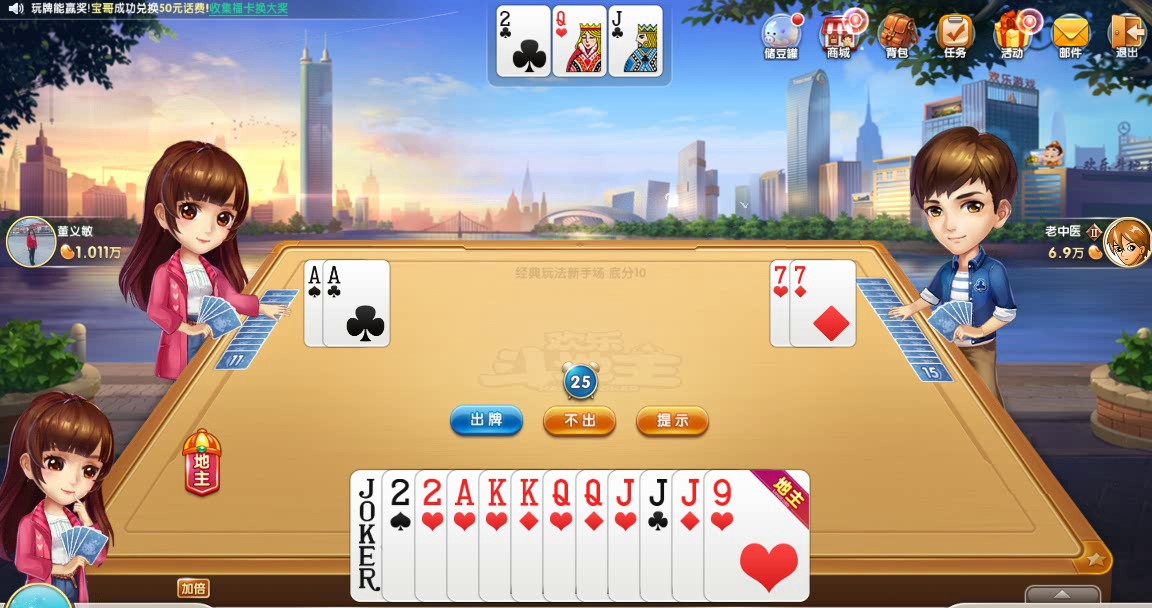11~1: (670, 470, 776, 601)
11~2: (638, 470, 744, 601), (607, 4, 662, 77)
11~3: (606, 470, 712, 601)
12~1: (575, 470, 681, 601)
12~3: (542, 470, 648, 601), (551, 4, 606, 77)
13~1: (510, 470, 616, 601)
13~3: (477, 470, 583, 601)
14~2: (321, 259, 390, 347)
14~3: (446, 470, 552, 601)
14~4: (302, 259, 371, 347)
15~2: (495, 4, 550, 77)
15~3: (413, 470, 519, 601)
15~4: (380, 470, 486, 601)
17~3: (350, 470, 456, 601)
7~1: (788, 259, 857, 347)
7~3: (769, 259, 838, 347)
9~3: (704, 470, 810, 601)
